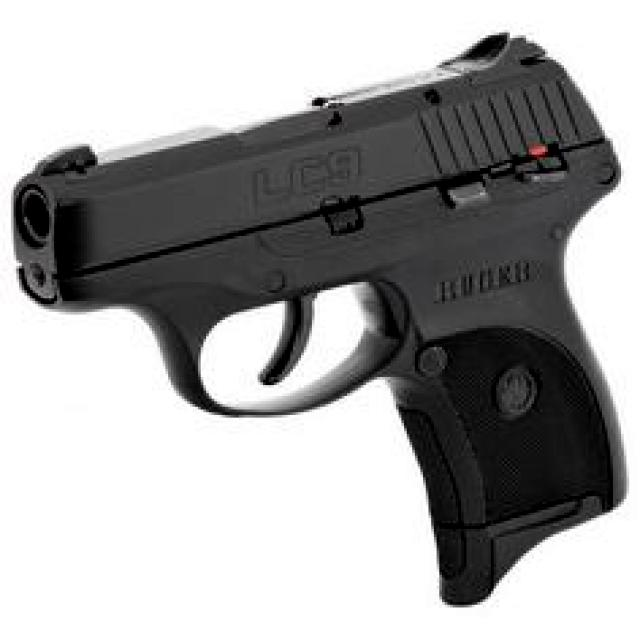semi automatic: (5, 20, 634, 619)
